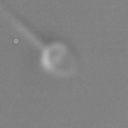normal: (1, 1, 45, 34)
